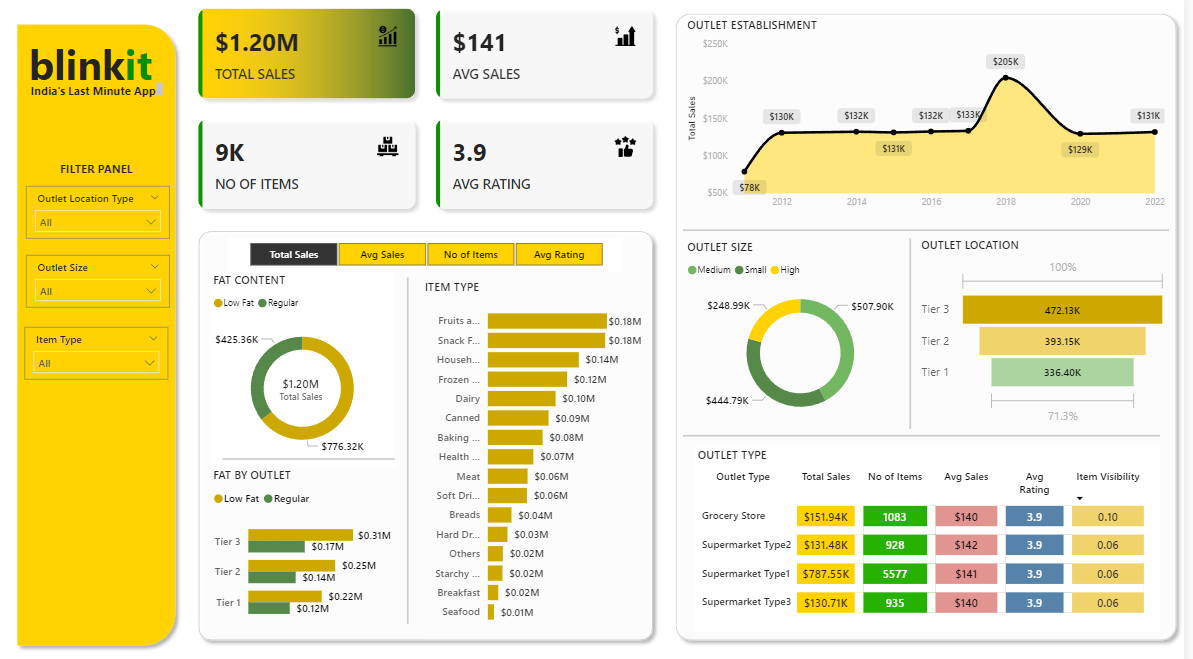

The dashboard page shown, as its layout file describes it:
{"tool":"powerbi","page":{"name":"Page 1","canvas":[1400,800],"ordinal":0},"visuals":[{"type":"shape","box":[16.5,26.9,204.6,750.3],"z":0},{"type":"textbox","box":[33.6,44.2,169.7,81.3],"z":1000},{"type":"textbox","box":[35.3,99,166.1,26.5],"z":2000},{"type":"cardVisual","fields":{"Data":["BlinkIT Grocery Data.Total Sales","BlinkIT Grocery Data.Avg Sales","BlinkIT Grocery Data.No of Items","BlinkIT Grocery Data.Avg Rating"]},"box":[220.9,0,570.9,270.4],"z":3000},{"type":"shape","box":[229.8,270.4,553.2,500.2],"z":4000},{"type":"donutChart","title":"FAT CONTENT","fields":{"Y":["BlinkIT Grocery Data.Total Sales"],"Category":["BlinkIT Grocery Data.Item Fat Content"]},"box":[251,327,219.2,229.8],"z":5000},{"type":"slicer","fields":{"Values":["Metrics.Metrics"]},"box":[273.9,286.3,464.8,40.6],"z":6000},{"type":"cardVisual","fields":{"Data":["BlinkIT Grocery Data.Total Sales"]},"box":[298.7,425.9,121.9,79.5],"z":7000},{"type":"clusteredBarChart","title":"FAT BY OUTLET","fields":{"Y":["BlinkIT Grocery Data.Total Sales"],"Category":["BlinkIT Grocery Data.Outlet Location Type"],"Series":["BlinkIT Grocery Data.Item Fat Content"]},"box":[251,556.7,219.2,194.4],"z":8000},{"type":"shape","box":[266.9,539,203.2,17.7],"z":9000},{"type":"shape","box":[470.1,334,30,408.3],"z":10000},{"type":"barChart","title":"ITEM TYPE","fields":{"Y":["BlinkIT Grocery Data.Total Sales"],"Category":["BlinkIT Grocery Data.Item Type"]},"box":[500.2,335.8,265.1,415.3],"z":11000},{"type":"shape","box":[791.8,14.1,608,756.4],"z":12000},{"type":"lineChart","title":"OUTLET ESTABLISHMENT","fields":{"Y":["BlinkIT Grocery Data.Total Sales"],"Category":["BlinkIT Grocery Data.Outlet Establishment Year"]},"box":[809.4,26.5,572.6,235.1],"z":13000},{"type":"shape","box":[809.4,270.4,572.6,15.9],"z":14000},{"type":"donutChart","title":"OUTLET SIZE","fields":{"Y":["BlinkIT Grocery Data.Total Sales"],"Category":["BlinkIT Grocery Data.Outlet Size"]},"box":[809.4,288.1,275.7,224.5],"z":15000},{"type":"shape","box":[1069.2,288.1,15.9,224.5],"z":16000},{"type":"funnel","title":"OUTLET LOCATION","fields":{"Y":["Sum(BlinkIT Grocery Data.Sales)"],"Category":["BlinkIT Grocery Data.Outlet Location Type"]},"box":[1085.2,286.3,298.7,226.2],"z":17000},{"type":"shape","box":[809.4,516.1,562,8.8],"z":18000},{"type":"pivotTable","title":"OUTLET TYPE","fields":{"Rows":["BlinkIT Grocery Data.Outlet Type"],"Values":["BlinkIT Grocery Data.Total Sales","BlinkIT Grocery Data.No of Items","BlinkIT Grocery Data.Avg Sales","BlinkIT Grocery Data.Avg Rating","Avg(BlinkIT Grocery Data.Item Visibility)"]},"box":[821.8,533.7,549.6,217.4],"z":19000},{"type":"slicer","fields":{"Values":["BlinkIT Grocery Data.Outlet Location Type"]},"box":[35.3,226.2,169.7,61.9],"z":20000},{"type":"slicer","fields":{"Values":["BlinkIT Grocery Data.Outlet Size"]},"box":[35.3,307.5,169.7,61.9],"z":21000},{"type":"slicer","fields":{"Values":["BlinkIT Grocery Data.Item Type"]},"box":[33.6,392.4,169.7,61.9],"z":22000},{"type":"textbox","box":[61.9,190.9,113.1,35.3],"z":23000}]}

Visuals, with their boxes on the page's 1400x800 design canvas (x1, y1, x2, y2). These are canvas units, not pixel positions in the 1193x659 screenshot, which may show the page scaled, cropped or inside an application window:
shape: [x1=16, y1=27, x2=221, y2=777]
textbox: [x1=34, y1=44, x2=203, y2=126]
textbox: [x1=35, y1=99, x2=201, y2=126]
cardVisual - BlinkIT Grocery Data.Total Sales x BlinkIT Grocery Data.Avg Sales: [x1=221, y1=0, x2=792, y2=270]
shape: [x1=230, y1=270, x2=783, y2=771]
"FAT CONTENT" donutChart: [x1=251, y1=327, x2=470, y2=557]
slicer - Metrics.Metrics: [x1=274, y1=286, x2=739, y2=327]
cardVisual - BlinkIT Grocery Data.Total Sales: [x1=299, y1=426, x2=421, y2=505]
"FAT BY OUTLET" clusteredBarChart: [x1=251, y1=557, x2=470, y2=751]
shape: [x1=267, y1=539, x2=470, y2=557]
shape: [x1=470, y1=334, x2=500, y2=742]
"ITEM TYPE" barChart: [x1=500, y1=336, x2=765, y2=751]
shape: [x1=792, y1=14, x2=1400, y2=770]
"OUTLET ESTABLISHMENT" lineChart: [x1=809, y1=26, x2=1382, y2=262]
shape: [x1=809, y1=270, x2=1382, y2=286]
"OUTLET SIZE" donutChart: [x1=809, y1=288, x2=1085, y2=513]
shape: [x1=1069, y1=288, x2=1085, y2=513]
"OUTLET LOCATION" funnel: [x1=1085, y1=286, x2=1384, y2=512]
shape: [x1=809, y1=516, x2=1371, y2=525]
"OUTLET TYPE" pivotTable: [x1=822, y1=534, x2=1371, y2=751]
slicer - BlinkIT Grocery Data.Outlet Location Type: [x1=35, y1=226, x2=205, y2=288]
slicer - BlinkIT Grocery Data.Outlet Size: [x1=35, y1=308, x2=205, y2=369]
slicer - BlinkIT Grocery Data.Item Type: [x1=34, y1=392, x2=203, y2=454]
textbox: [x1=62, y1=191, x2=175, y2=226]
